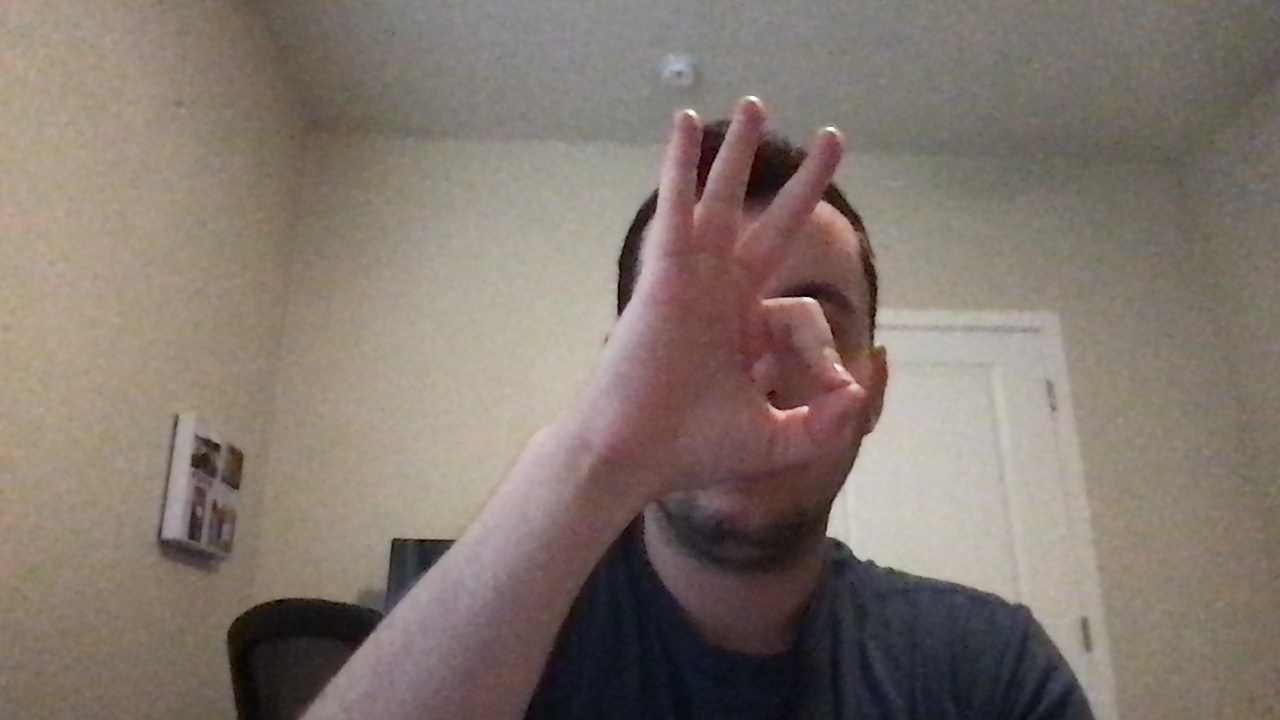f: (612, 84, 882, 505)
